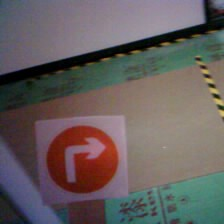right: (39, 116, 132, 202)
